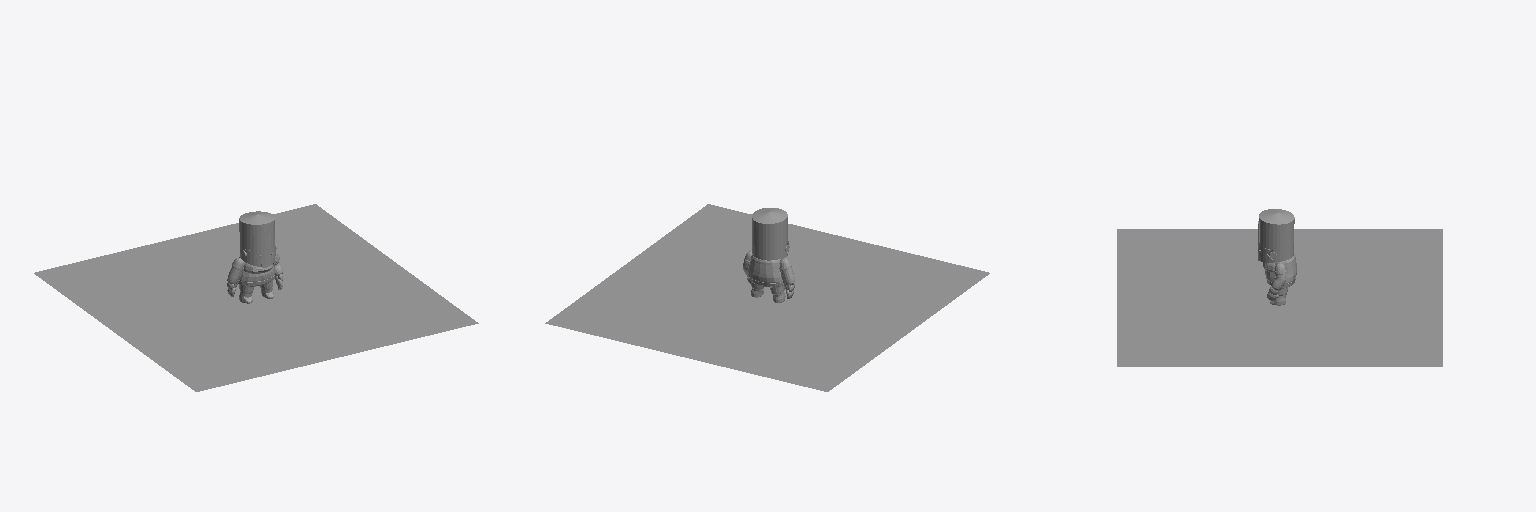
Rendered from Deidad2.obj.
3 views of the same model, side by side, from view 1: azimuth 30°, elevation 25°; view 2: azimuth 150°, elevation 25°; view 3: azimuth 270°, elevation 25° (orthographic).
Visible parts, largest first — view 1: Plane.001, KNIGHT_BODY_CENTRE_CHEST_HEAD_HEAD1_Cylinder8_Cylinder11; view 2: Plane.001, KNIGHT_BODY_CENTRE_CHEST_HEAD_HEAD1_Cylinder8_Cylinder11, KNIGHT_BODY1_BODY; view 3: Plane.001, KNIGHT_BODY1_CENTRE_HEAD_HEAD1_Cylinder2_Cylinder.
Boxes of the visible parts, x1,y1,x2,y2 form: Plane.001: [34, 204, 478, 391]; KNIGHT_BODY_CENTRE_CHEST_HEAD_HEAD1_Cylinder8_Cylinder11: [239, 213, 264, 266]; Plane.001: [545, 204, 989, 391]; KNIGHT_BODY_CENTRE_CHEST_HEAD_HEAD1_Cylinder8_Cylinder11: [760, 209, 787, 260]; KNIGHT_BODY1_BODY: [748, 255, 783, 287]; Plane.001: [1117, 229, 1442, 366]; KNIGHT_BODY1_CENTRE_HEAD_HEAD1_Cylinder2_Cylinder: [1259, 213, 1294, 262].
Size of the model in its own units: 29.73 by 8.58 by 29.73.